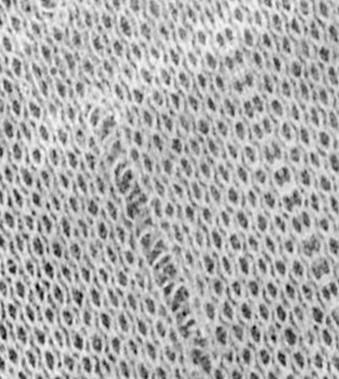slub: (84, 92, 220, 373)
